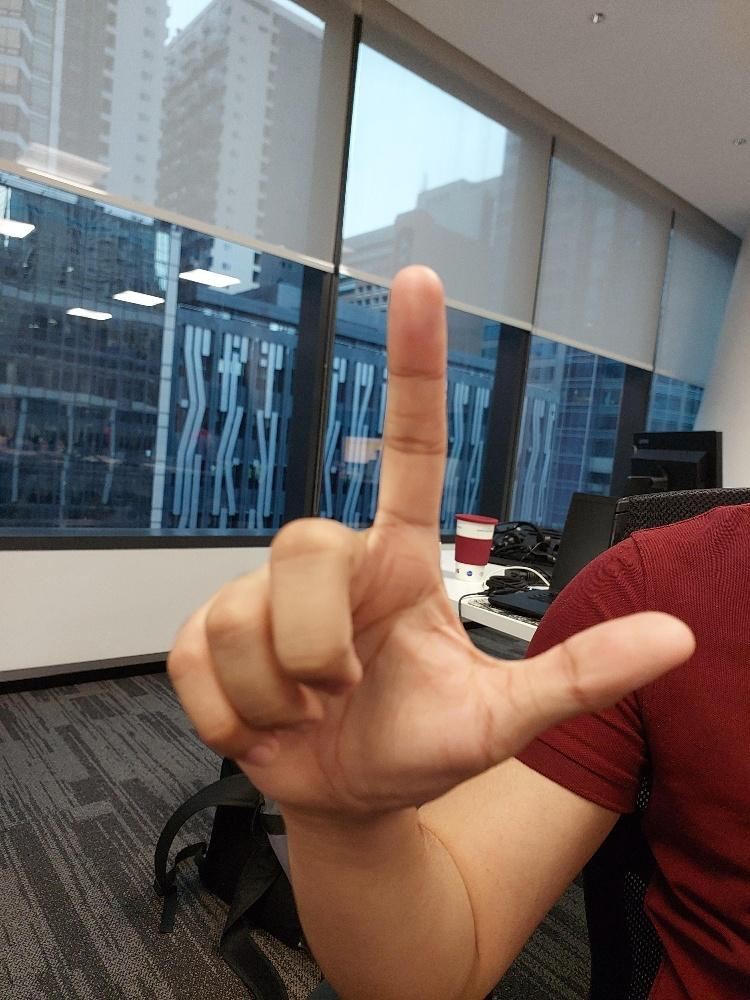l: (164, 261, 701, 838)
